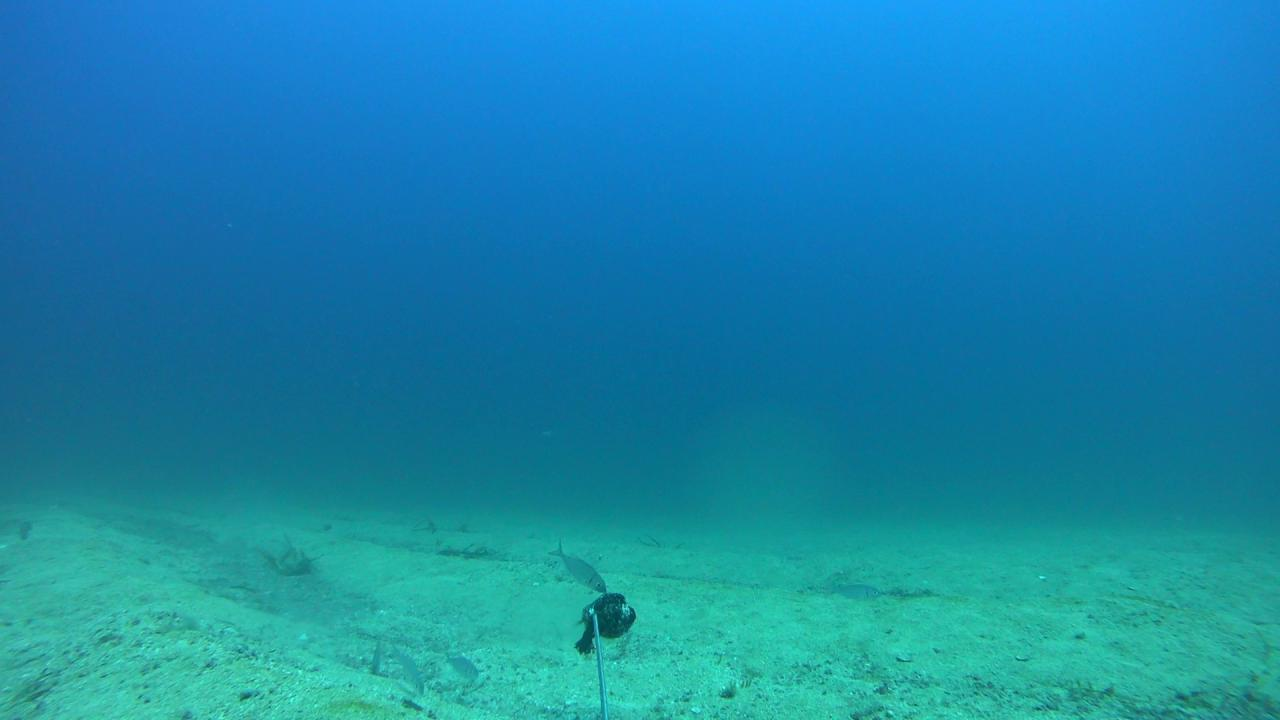pagellus: (549, 537, 604, 593), (391, 645, 425, 696), (824, 579, 882, 603), (444, 651, 475, 677)
